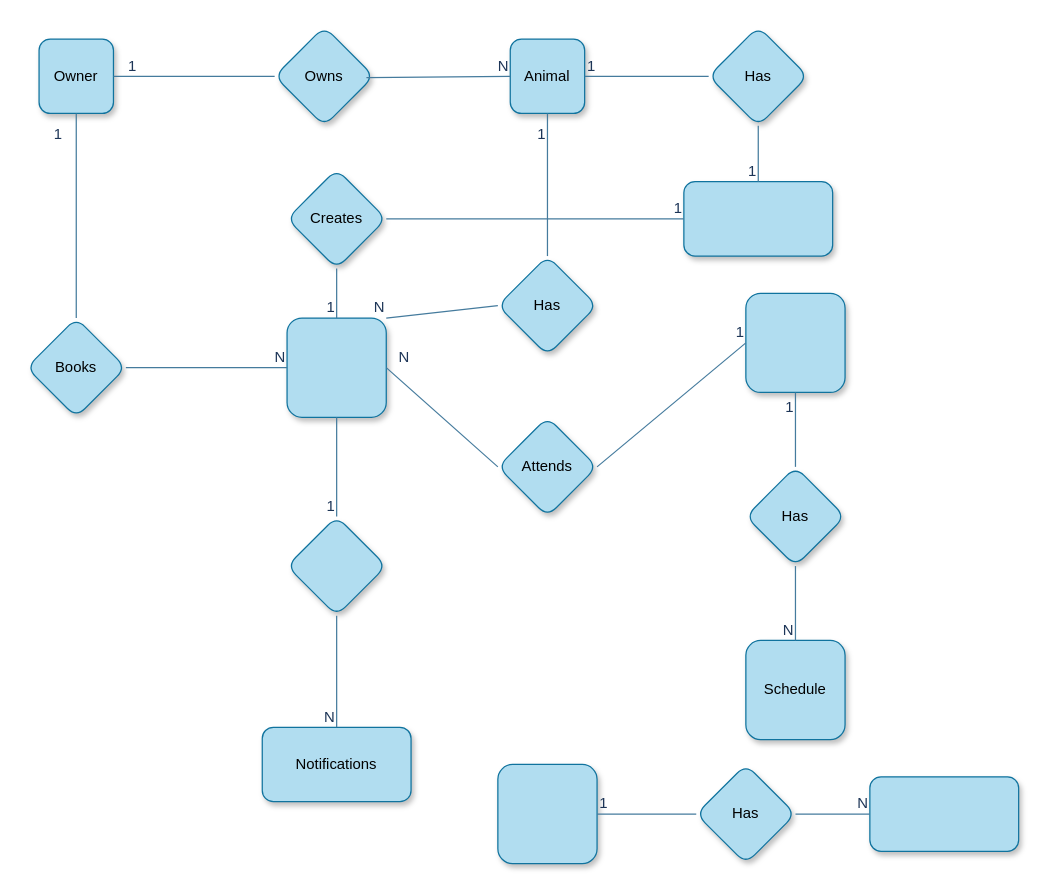
Image size: 1048x894. Some labels were removed from this diagram. Here are the shapes that lost their labels. From the top down, the centre of each, then its label:
At (759,220): "Medical History".
At (796,344): "Veterinarian".
At (337,369): "Appointment".
At (337,567): "Sends".
At (548,815): "User Account".
At (945,815): "Roles".
